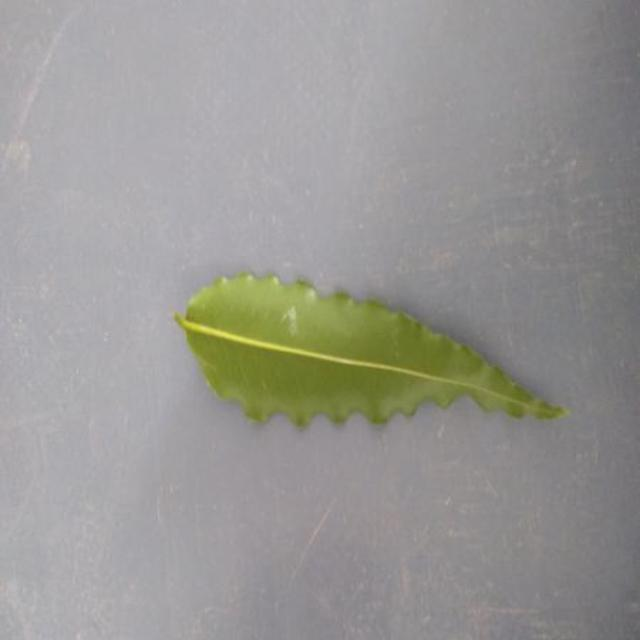ashoka: (175, 272, 567, 426)
